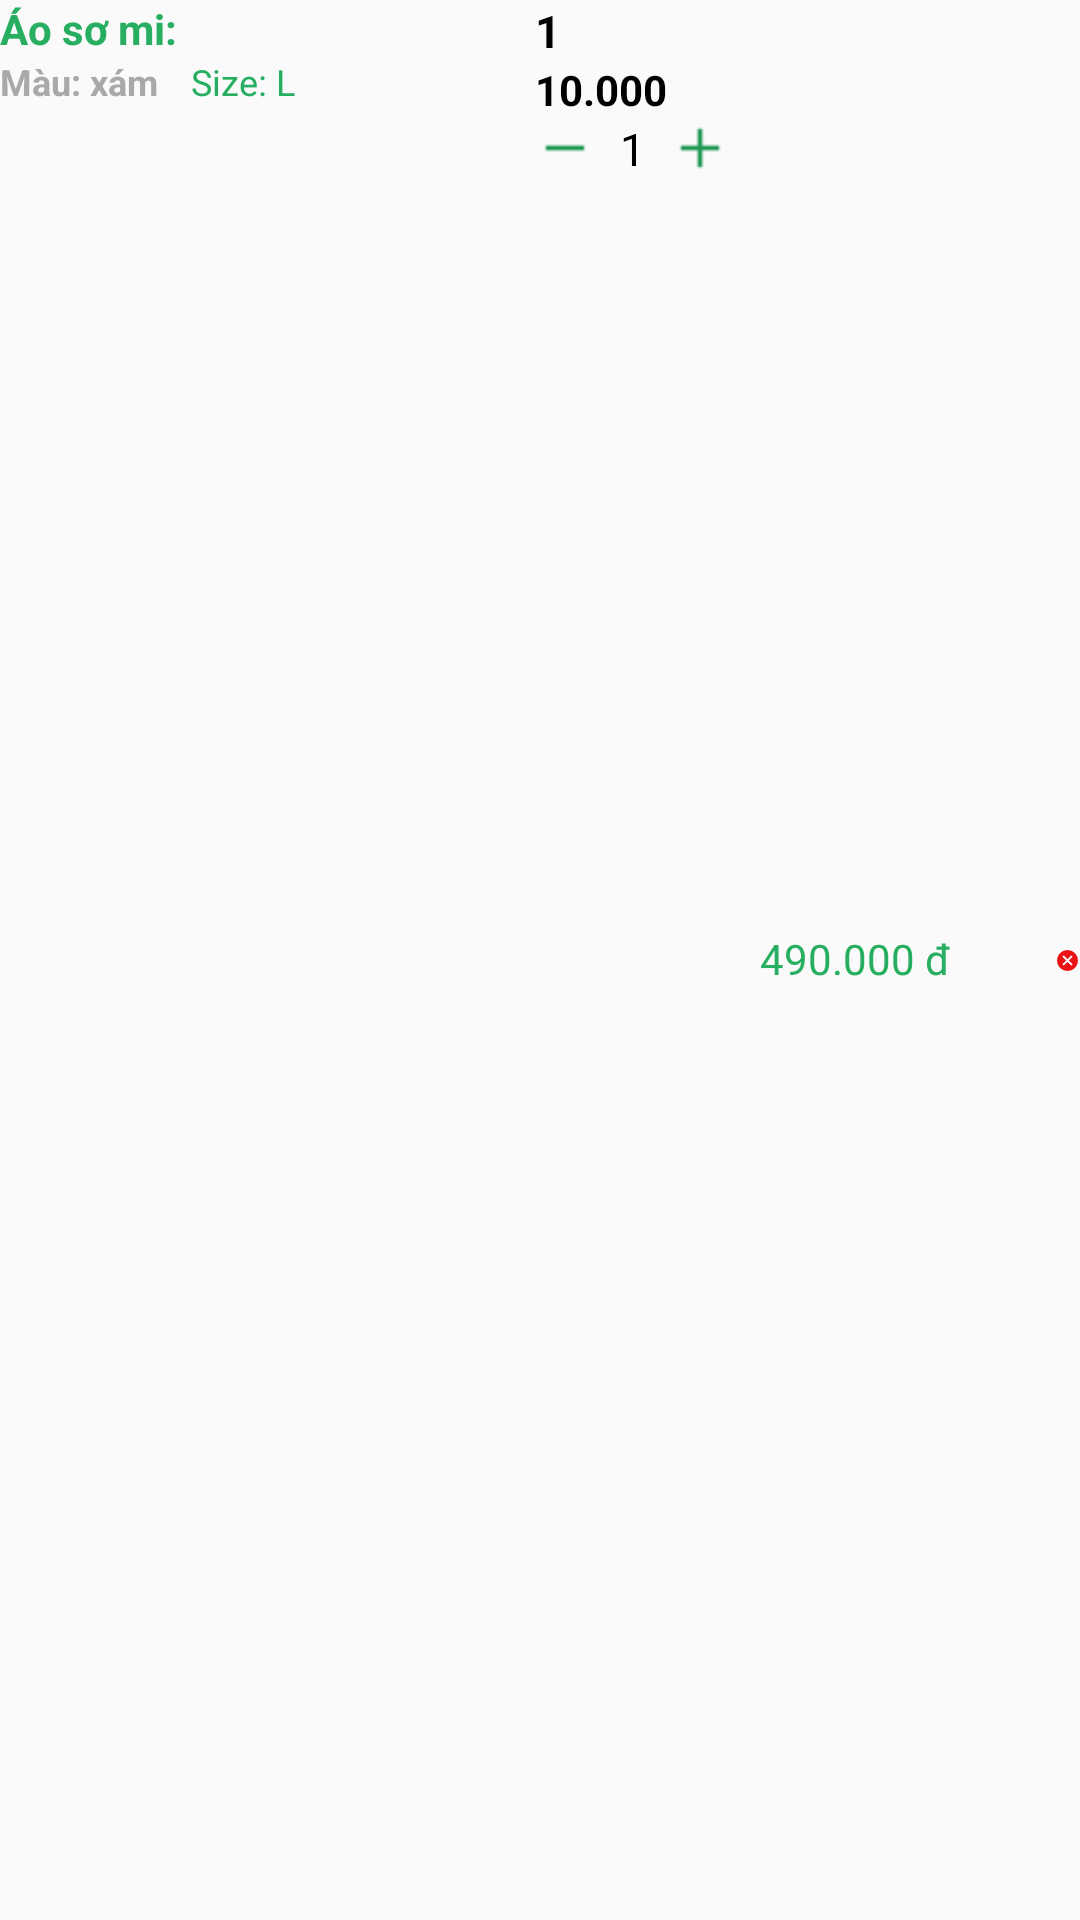

Icons on this 1080px x 1920px Android screen, each with its box as BBox(x1, y1, x2, y2):
minus: BBox(544, 144, 586, 152)
plus: BBox(679, 127, 721, 169)
